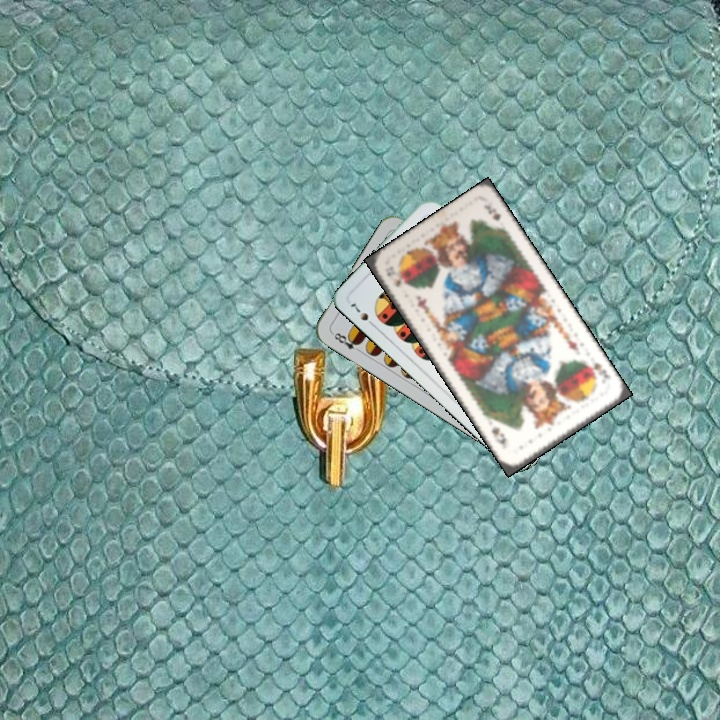E8: (328, 328, 364, 355)
S7: (346, 299, 378, 330)
SK: (582, 357, 613, 382), (381, 262, 404, 290)
